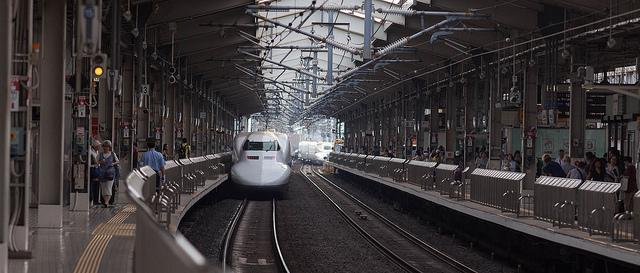Train: (228, 133, 294, 192)
